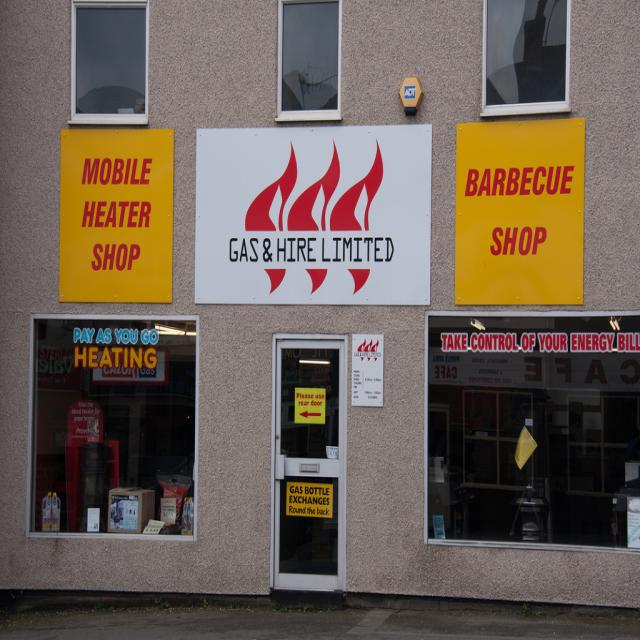no_fire: (39, 47, 608, 621)
